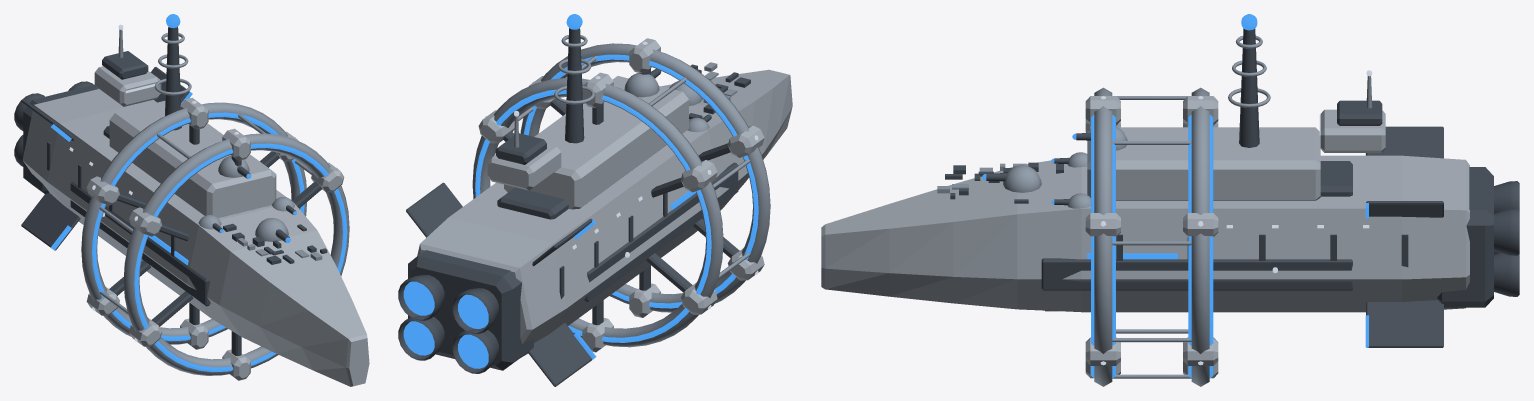
The picture shows the model from 3 angles, left to right: view 1: azimuth 30°, elevation 25°; view 2: azimuth 150°, elevation 25°; view 3: azimuth 270°, elevation 25°; orthographic projection. The views are drawn at different scales.
Visible parts, largest first — view 1: hull, trim, hull2, team_glow; view 2: hull, hull2, trim, team_glow; view 3: hull, hull2, trim, team_glow.
Boxes of the visible parts, <box> form: hull: <box>22,66,369,386</box>; trim: <box>81,29,349,375</box>; hull2: <box>14,27,327,355</box>; team_glow: <box>51,14,347,371</box>; hull: <box>417,38,792,357</box>; hull2: <box>398,28,750,386</box>; trim: <box>472,35,770,347</box>; team_glow: <box>403,14,758,368</box>; hull: <box>821,96,1469,378</box>; hull2: <box>945,28,1519,347</box>; trim: <box>937,36,1372,386</box>; team_glow: <box>982,14,1368,378</box>.
Size of the model in its own units: 4.62 by 6.19 by 10.77.
